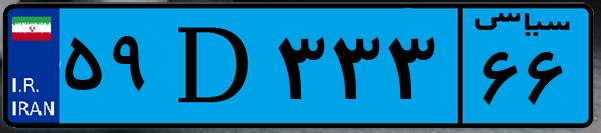3: (270, 28, 330, 110), (385, 28, 445, 110), (330, 28, 385, 110)
5: (57, 26, 110, 100)
6: (475, 38, 525, 113), (525, 38, 570, 115)
9: (110, 28, 158, 98)
D: (158, 12, 270, 120)
